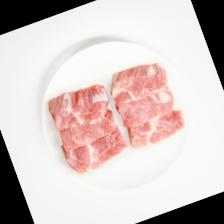meat: (58, 121, 131, 179), (44, 78, 114, 136), (103, 54, 171, 108), (114, 82, 177, 129), (55, 106, 119, 152), (123, 106, 188, 151)
